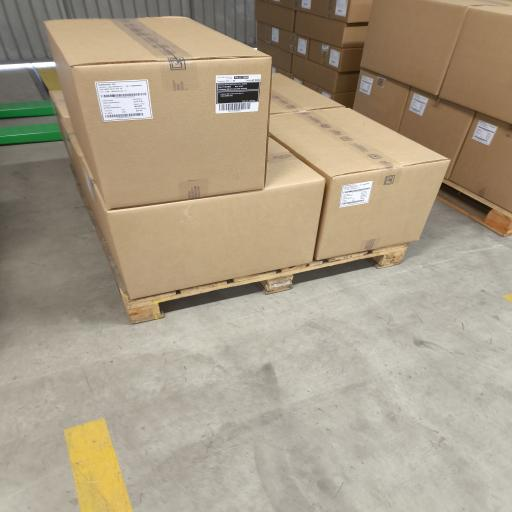pallet: (72, 166, 408, 323), (103, 241, 408, 323), (438, 180, 511, 236), (0, 123, 62, 144), (0, 101, 55, 118)
